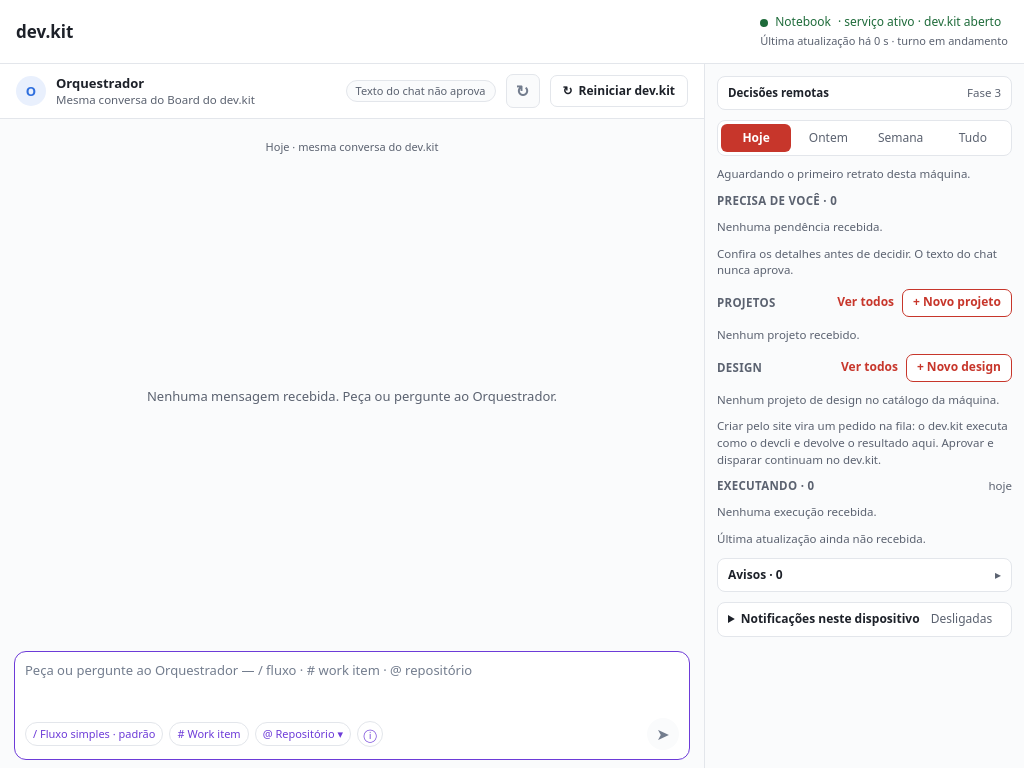
Scenario: Ligar e Reiniciar o dev.kit pelo site (item 8) › com turno em andamento avisa, pede confirmação e só então reinicia — cancelar não manda nada
Click the button "↻ Reiniciar dev.kit". click: click(619, 91)
box: [550, 75, 688, 107]
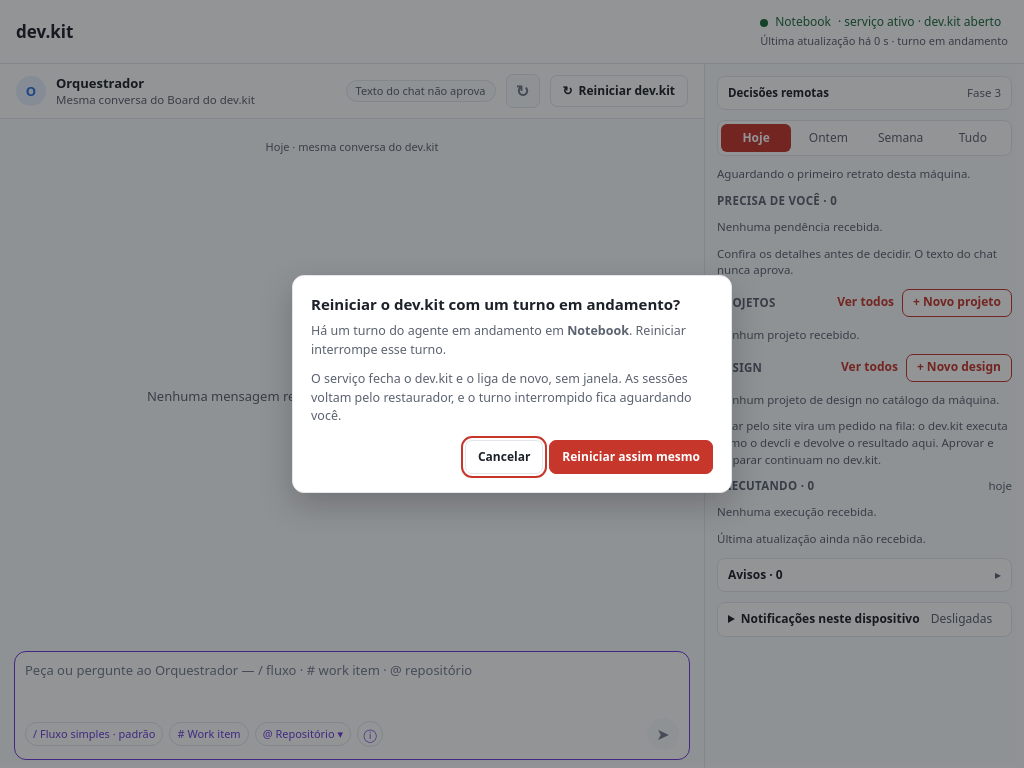
Now the text "Reiniciar interrompe esse turno" is shown, box [311, 322, 686, 358]
Now the text "As sessões voltam pelo restaurador" is shown, box [311, 370, 692, 424]
Click the button "Cancelar". click: click(504, 457)
box: [465, 440, 543, 474]
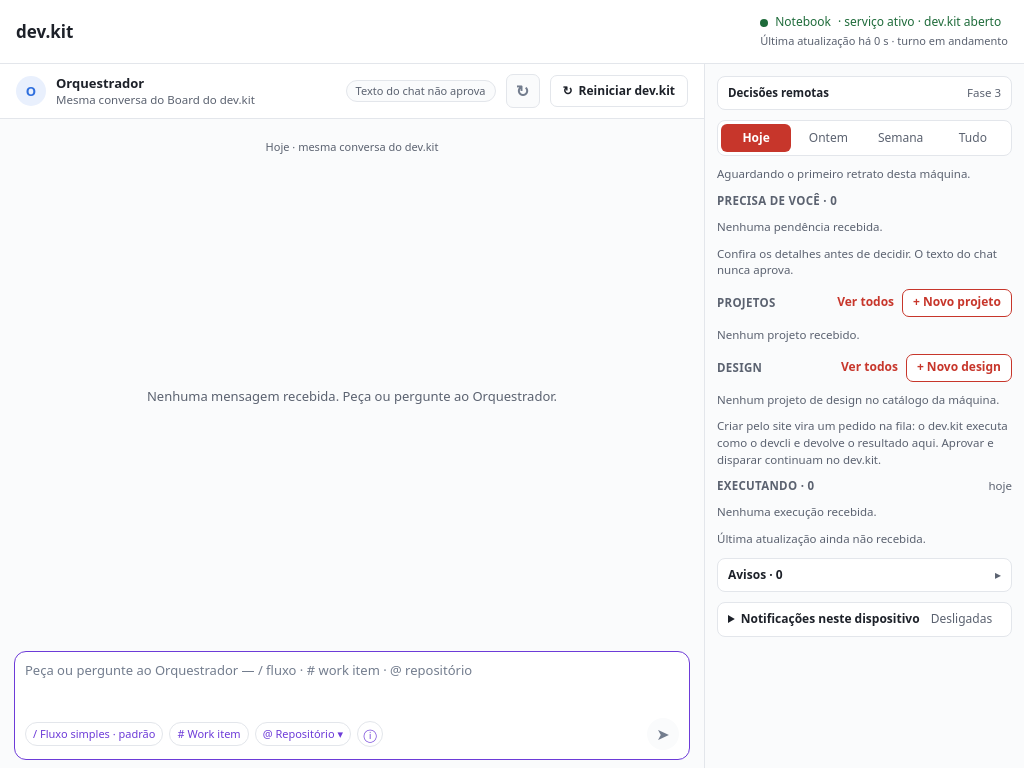
Now the dialog is gone
Click the button "↻ Reiniciar dev.kit". click: click(619, 91)
box: [550, 75, 688, 107]
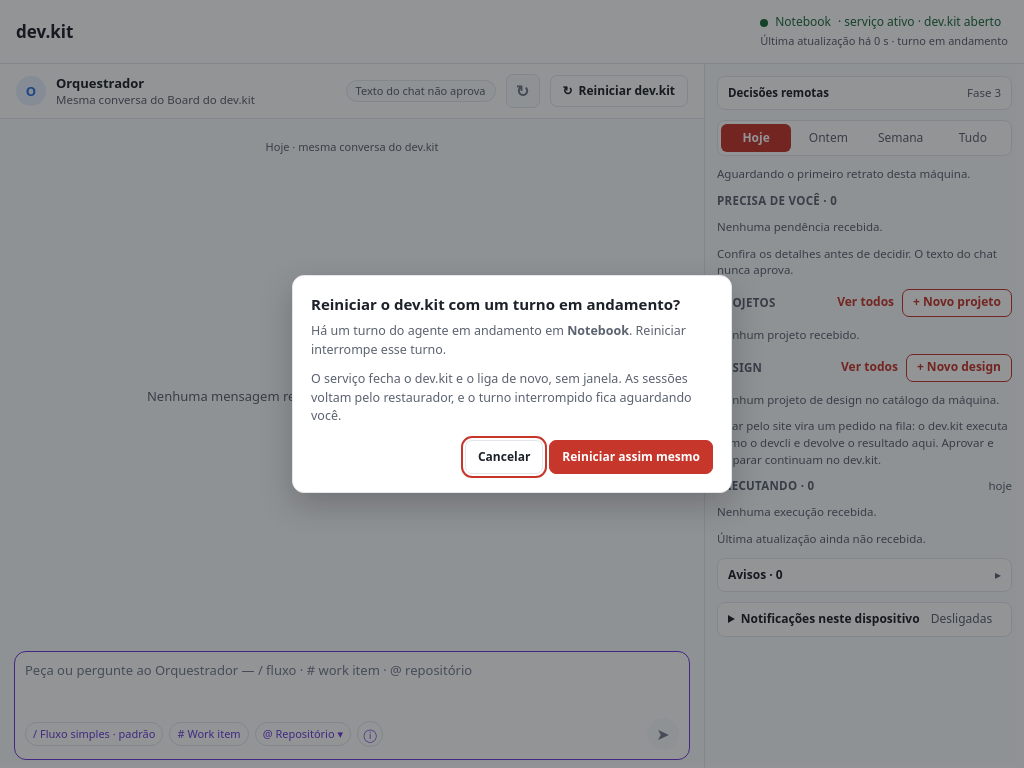
Click the button "Reiniciar assim mesmo". click: click(631, 457)
box: [549, 440, 713, 474]
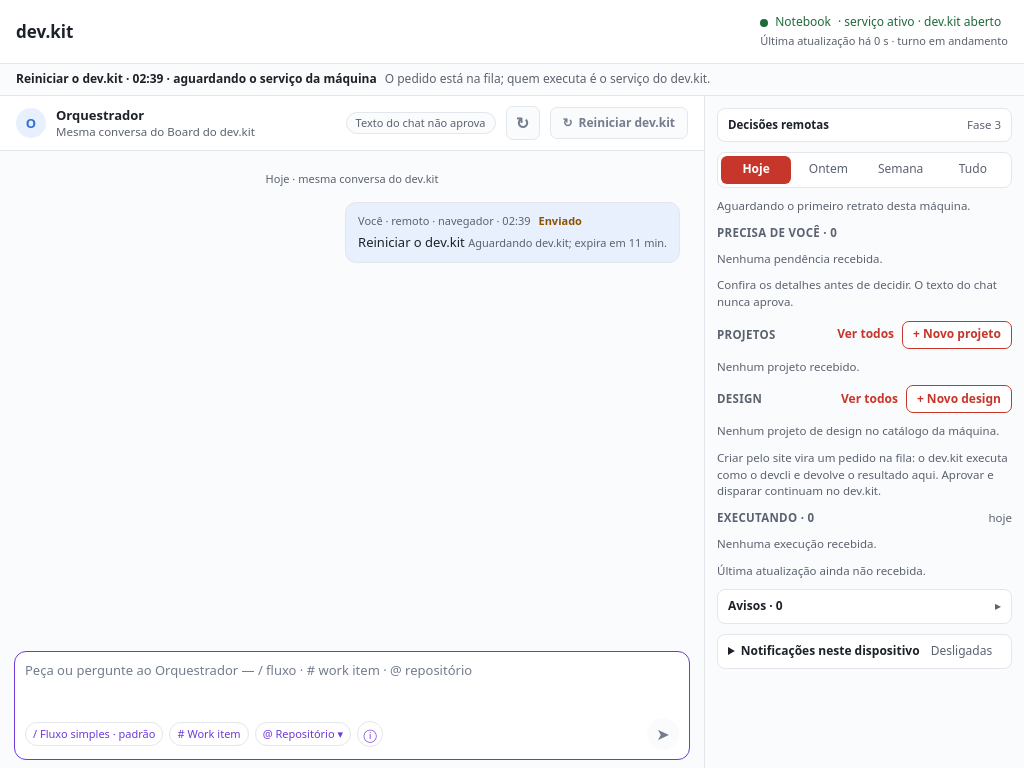
Now the dialog is gone
